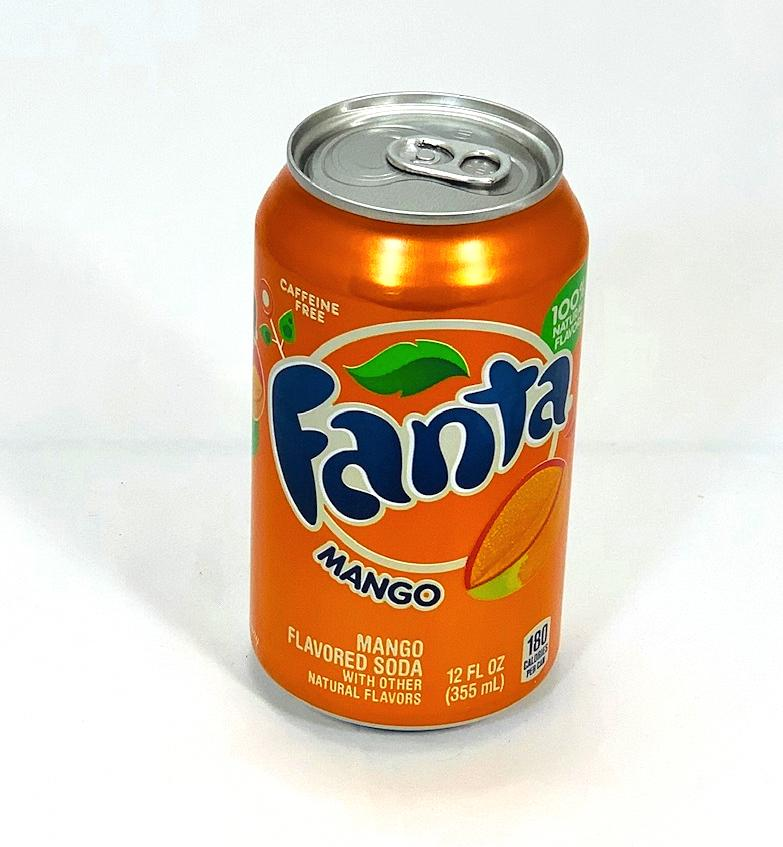metal: (251, 92, 589, 730)
